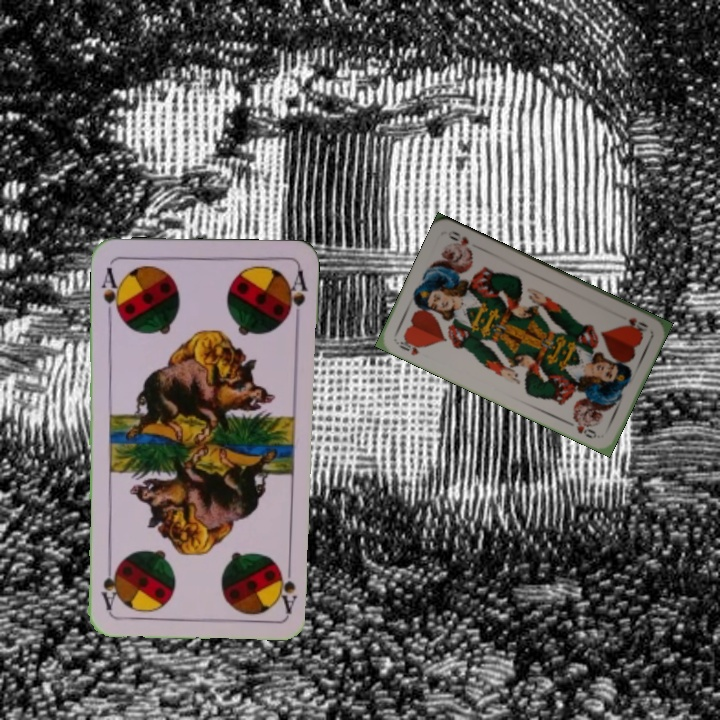HO: (392, 333, 426, 358), (623, 313, 651, 334)
SA: (97, 263, 124, 321), (278, 555, 300, 614)
